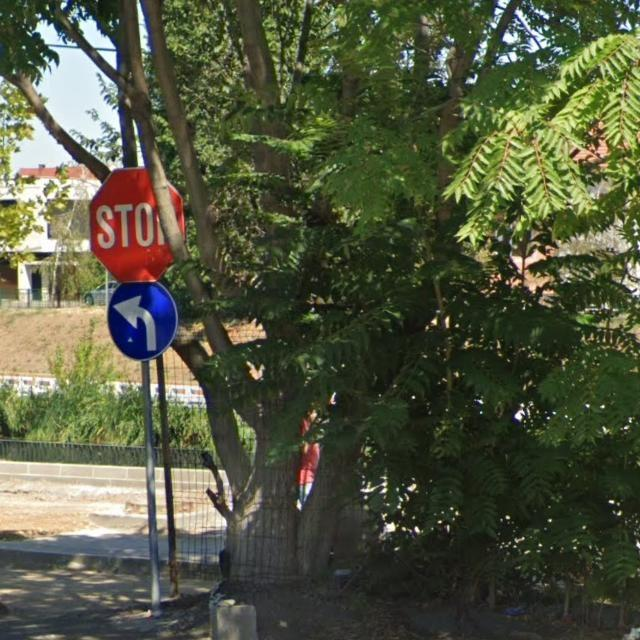prio_stop: (89, 166, 176, 283)
